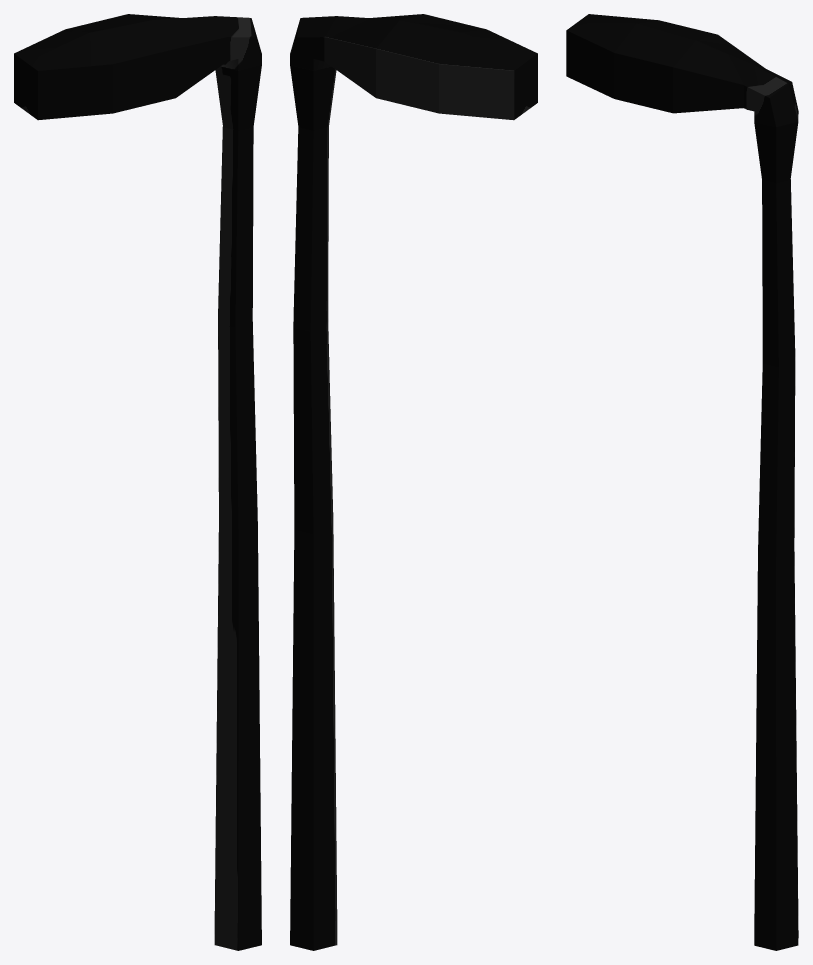
The model's file is LamparaModerna.obj.
3 views of the same model, side by side, from view 1: azimuth 30°, elevation 25°; view 2: azimuth 150°, elevation 25°; view 3: azimuth 330°, elevation 25° (orthographic). The views are drawn at different scales.
Parts seen in each view (by area): view 1: mesh_lightpost_mat_house_frame; view 2: mesh_lightpost_mat_house_frame; view 3: mesh_lightpost_mat_house_frame.
Part boxes in pixels (x1,y1,x2,y2): mesh_lightpost_mat_house_frame: [14, 14, 261, 950]; mesh_lightpost_mat_house_frame: [290, 14, 537, 950]; mesh_lightpost_mat_house_frame: [566, 14, 798, 950].
Size of the model in its own units: 9.87 by 37.71 by 3.46.
